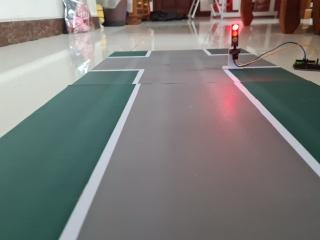red: (228, 20, 242, 52)
